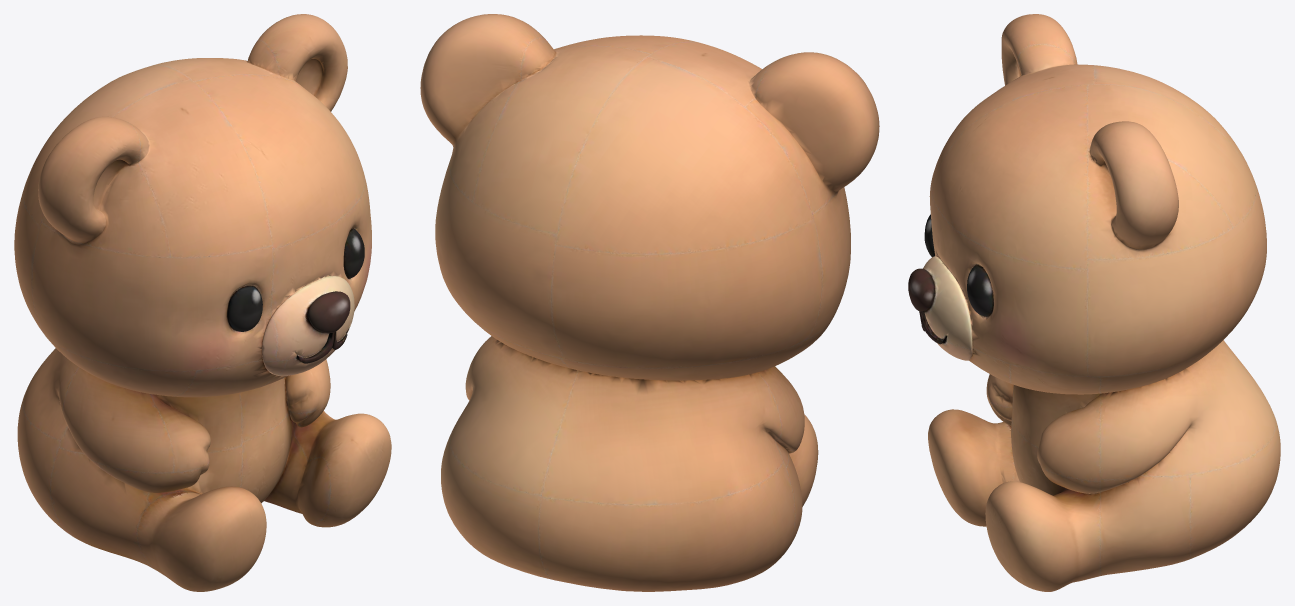
The model's file is model-mobile-v001.glb.
The picture shows the model from 3 angles, left to right: view 1: azimuth 30°, elevation 25°; view 2: azimuth 150°, elevation 25°; view 3: azimuth 270°, elevation 25°; orthographic projection. The views are drawn at different scales.
Parts seen in each view (by area): view 1: tmpyk50n3eiobj; view 2: tmpyk50n3eiobj; view 3: tmpyk50n3eiobj.
Boxes of the visible parts, bbox=[...] form: tmpyk50n3eiobj: bbox=[14, 14, 391, 591]; tmpyk50n3eiobj: bbox=[420, 14, 879, 591]; tmpyk50n3eiobj: bbox=[908, 14, 1280, 591].
Size of the model in its own units: 0.7792 by 0.9999 by 0.7187.
1 material, 1 textured.
